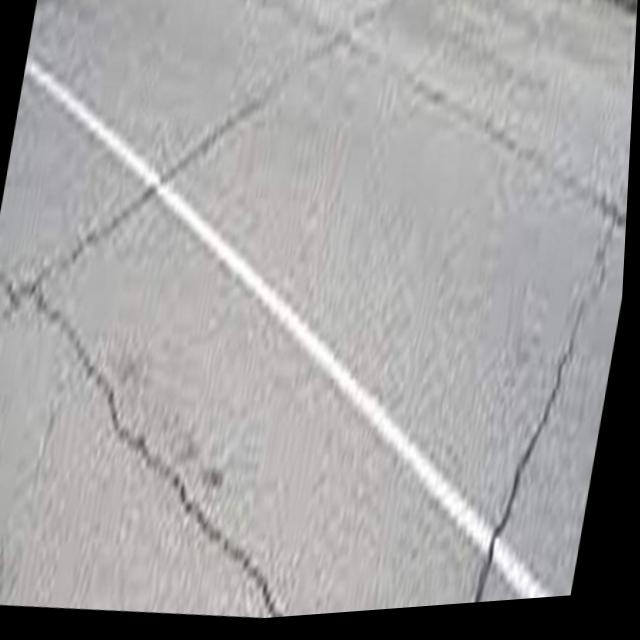Crack: (402, 237, 629, 615), (64, 336, 257, 510), (0, 173, 153, 379), (154, 491, 327, 630)
